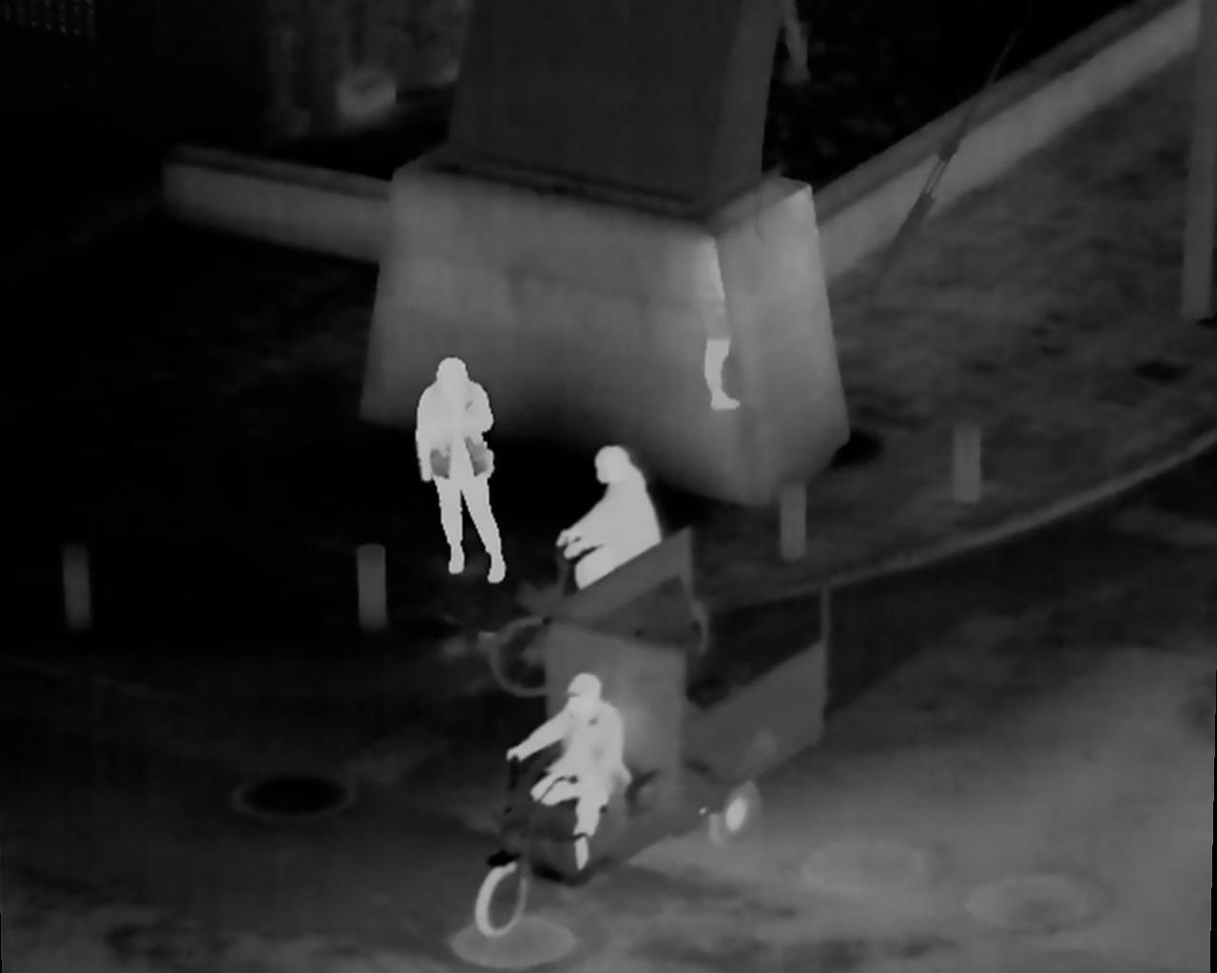person: (505, 667, 636, 858), (414, 355, 511, 588), (565, 444, 666, 600)
